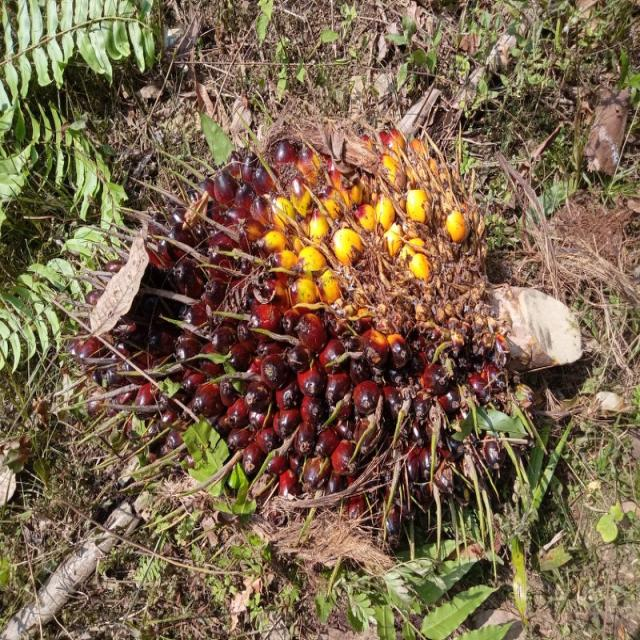fraksi 1: (92, 0, 570, 574)
